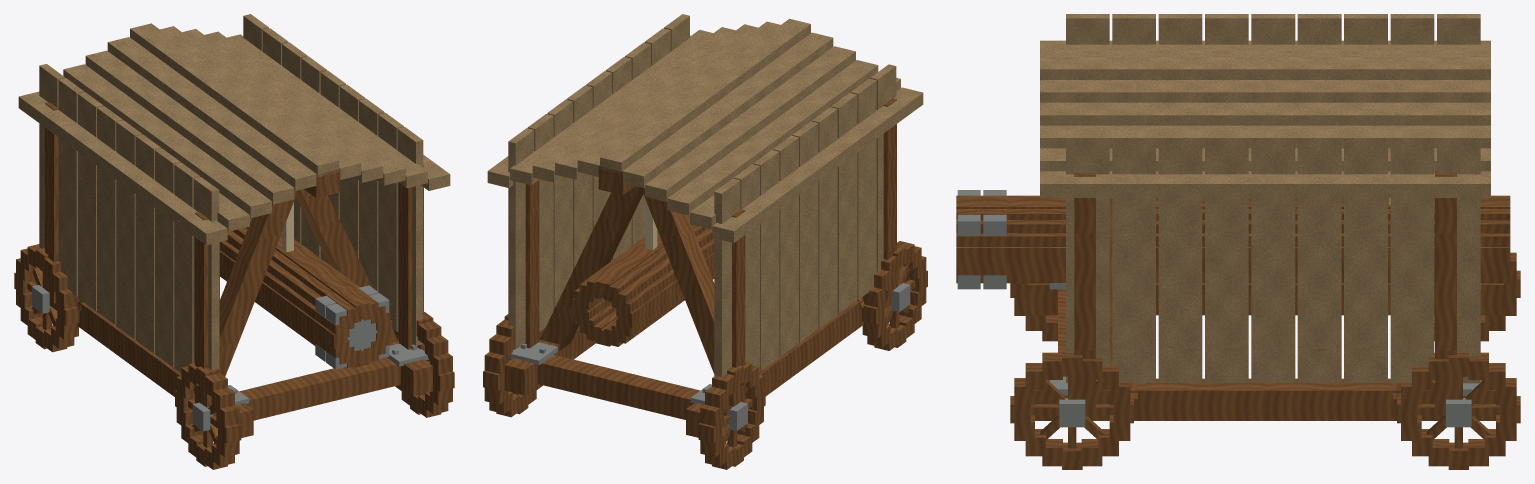
3 views of the same model, side by side, from view 1: azimuth 30°, elevation 25°; view 2: azimuth 150°, elevation 25°; view 3: azimuth 270°, elevation 25° (orthographic). The views are drawn at different scales.
Size of the model in its own units: 263 by 291 by 438.
4 materials, 2 textured.
